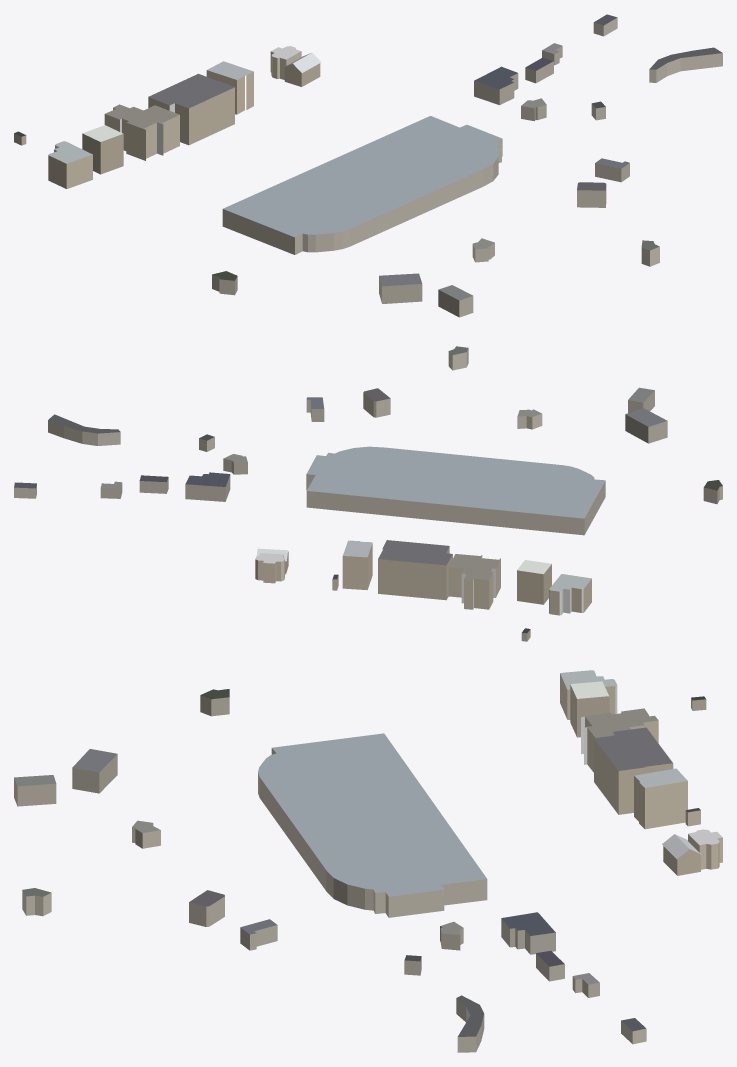
The picture shows the model from 3 angles, top to bottom: view 1: azimuth 30°, elevation 25°; view 2: azimuth 150°, elevation 25°; view 3: azimuth 270°, elevation 25°; orthographic projection. The views are drawn at different scales.
Visible parts, largest first — view 1: tuile; view 2: tuile; view 3: tuile.
Boxes of the visible parts, x1=… form: tuile: x1=14, y1=14, x2=722, y2=317; tuile: x1=14, y1=346, x2=722, y2=641; tuile: x1=14, y1=670, x2=722, y2=1052.
Bounding box in the file's own units: 264 × 16.59 × 221.
